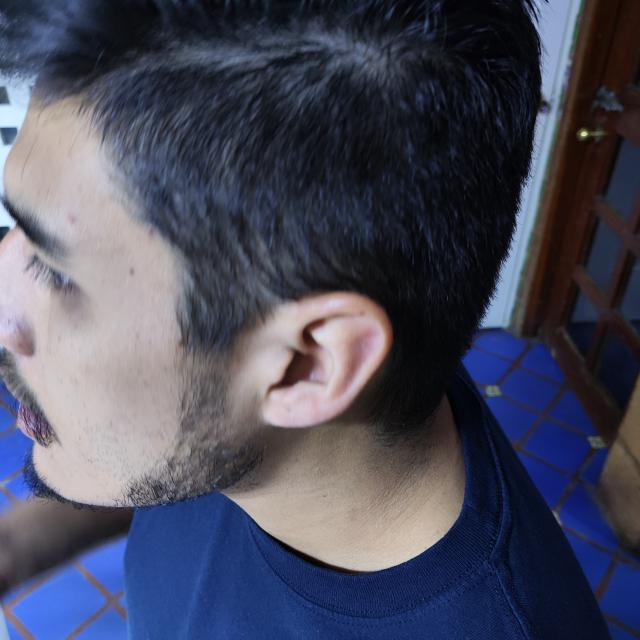ear: (251, 291, 392, 429)
